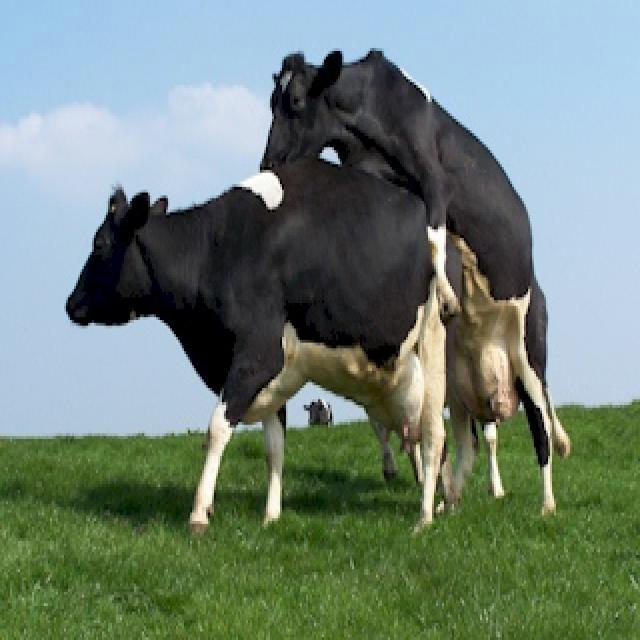cow: (261, 51, 571, 513), (66, 162, 446, 531)
